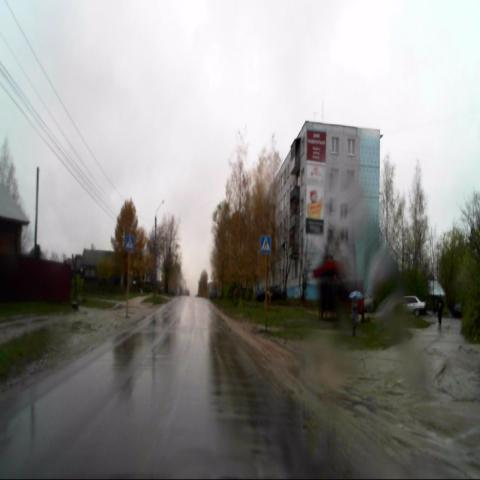5_19_1: (260, 236, 271, 253), (125, 236, 134, 251)
